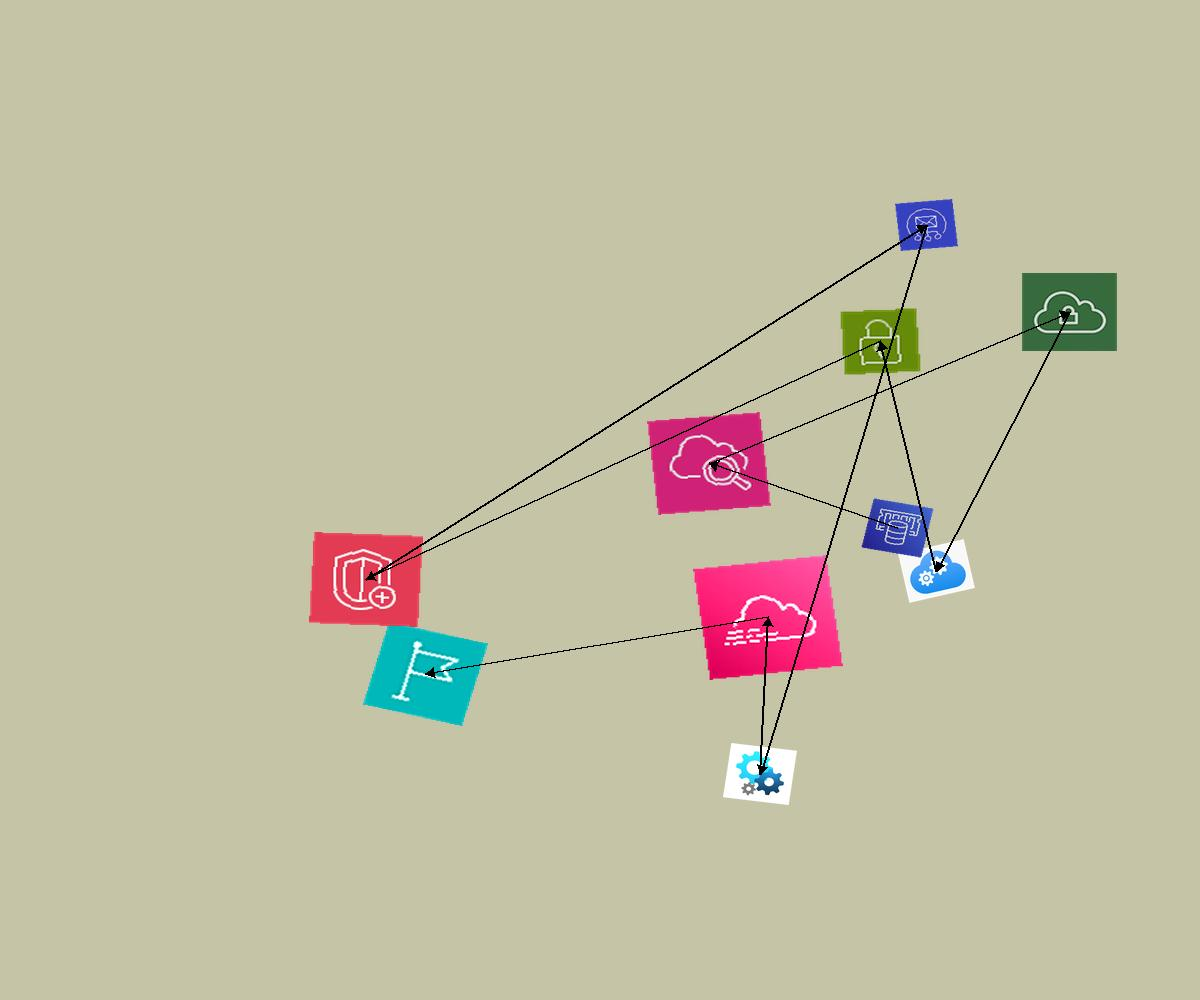AWS-CloudTrail: (693, 555, 843, 680)
AWS-CloudWatch: (647, 412, 771, 515)
AWS-ElastiCache: (861, 498, 934, 558)
AWS-Private_vpc: (1021, 272, 1118, 352)
AWS-Public-subnet: (839, 307, 922, 376)
AWS-Region: (363, 622, 488, 726)
AWS-Shield: (309, 532, 423, 627)
AWS-Simple-Email-Service: (895, 199, 958, 251)
Azure_api: (723, 743, 797, 805)
Azure_cloud_services: (898, 539, 975, 603)
